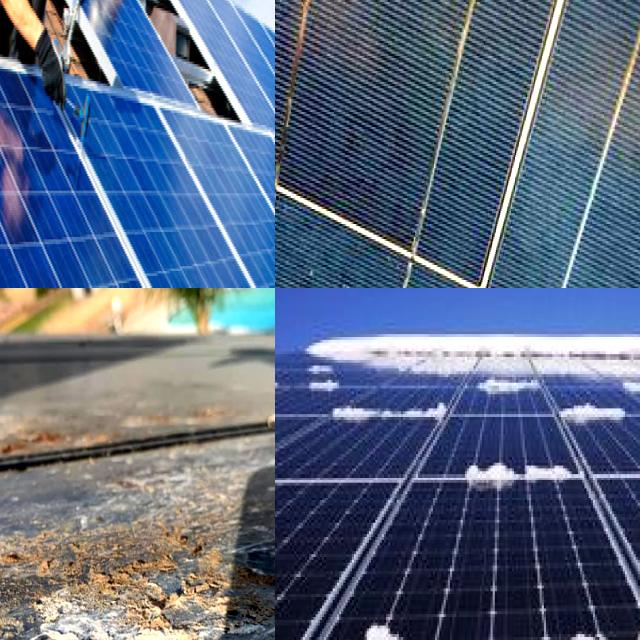bird: (0, 519, 236, 640), (0, 518, 84, 640)
crack: (0, 61, 275, 288), (173, 0, 275, 168), (69, 0, 199, 106)
panel: (458, 448, 577, 510), (275, 598, 439, 640), (447, 316, 586, 364), (304, 322, 440, 362), (318, 394, 452, 430), (558, 389, 640, 433), (472, 367, 552, 408), (598, 318, 640, 376), (304, 356, 350, 394), (275, 365, 286, 407)
shadow: (275, 0, 367, 215)
